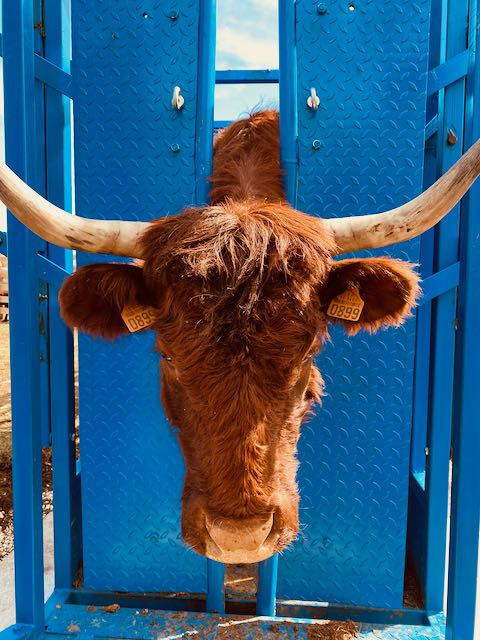muzzles: (177, 503, 305, 568)
